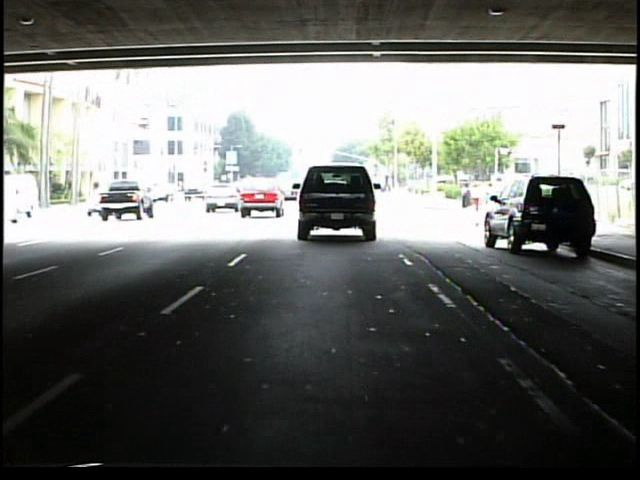person: (483, 179, 499, 217), (459, 181, 474, 215), (472, 184, 482, 210)
